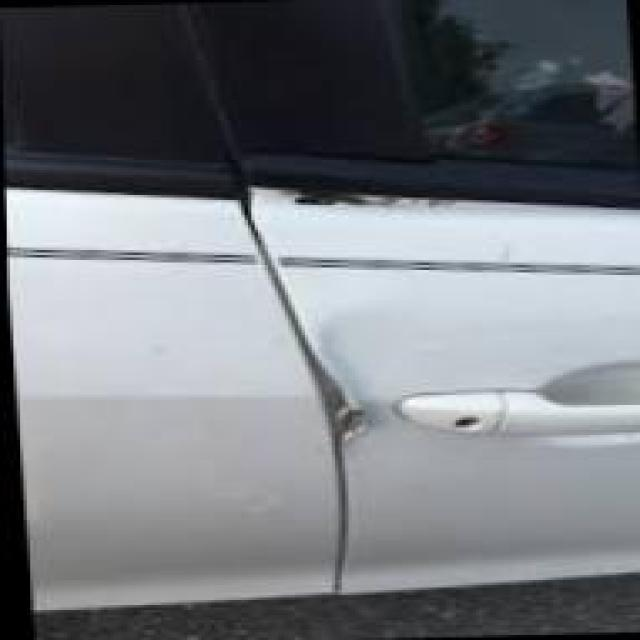Door: (298, 318, 407, 465)
